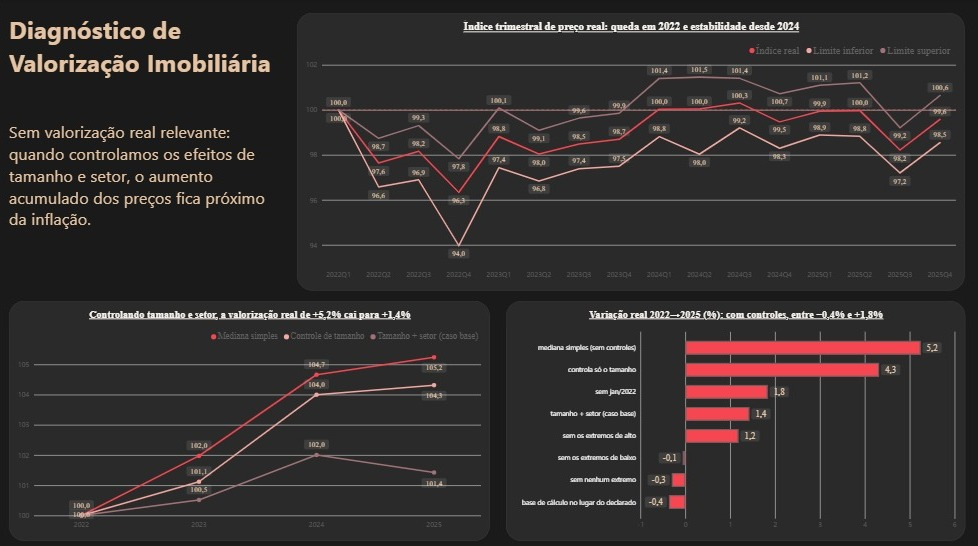

Layout of this report page (visuals, bound fields, positions):
{"tool":"powerbi","page":{"name":"Diagnóstico ","canvas":[1920,1080],"ordinal":1},"visuals":[{"type":"lineChart","title":"Índice trimestral de preço real: queda em 2022 e estabilidade desde 2024","fields":{"Category":["analytics res_indice_trimestral.trimestre"],"Y":["Sum(analytics res_indice_trimestral.indice)","Sum(analytics res_indice_trimestral.ic_inferior)","Sum(analytics res_indice_trimestral.ic_superior)"]},"box":[584.1,27.1,1311.2,544.7],"z":7},{"type":"lineChart","title":"Controlando tamanho e setor, a valorização real de +5,2% cai para +1,4%","fields":{"Category":["analytics res_indice_anual.ano"],"Y":["Sum(analytics res_indice_anual.mediana_simples)","Sum(analytics res_indice_anual.controla_tamanho)","Sum(analytics res_indice_anual.controla_tamanho_setor)"]},"box":[17.3,594,944,470.8],"z":8},{"type":"clusteredBarChart","title":"Variação real 2022→2025 (%): com controles, entre −0,4% e +1,8%","fields":{"Category":["analytics res_sensibilidade_indice.variante"],"Y":["Sum(analytics res_sensibilidade_indice.variacao_pct)"]},"box":[993.3,594,902.1,470.8],"z":9},{"type":"textbox","box":[18,28,532,180],"z":10},{"type":"textbox","box":[17.5,237.5,532.5,225],"z":11}]}

Visuals, with their boxes in screenshot pixels (x1, y1, x2, y2), scaled from the page's 1920x1080 canvas onto the 978x546 screenshot:
"Índice trimestral de preço real: queda em 2022 e estabilidade desde 2024" lineChart: (left=298, top=14, right=965, bottom=289)
"Controlando tamanho e setor, a valorização real de +5,2% cai para +1,4%" lineChart: (left=9, top=300, right=490, bottom=538)
"Variação real 2022→2025 (%): com controles, entre −0,4% e +1,8%" clusteredBarChart: (left=506, top=300, right=965, bottom=538)
textbox: (left=9, top=14, right=280, bottom=105)
textbox: (left=9, top=120, right=280, bottom=234)
